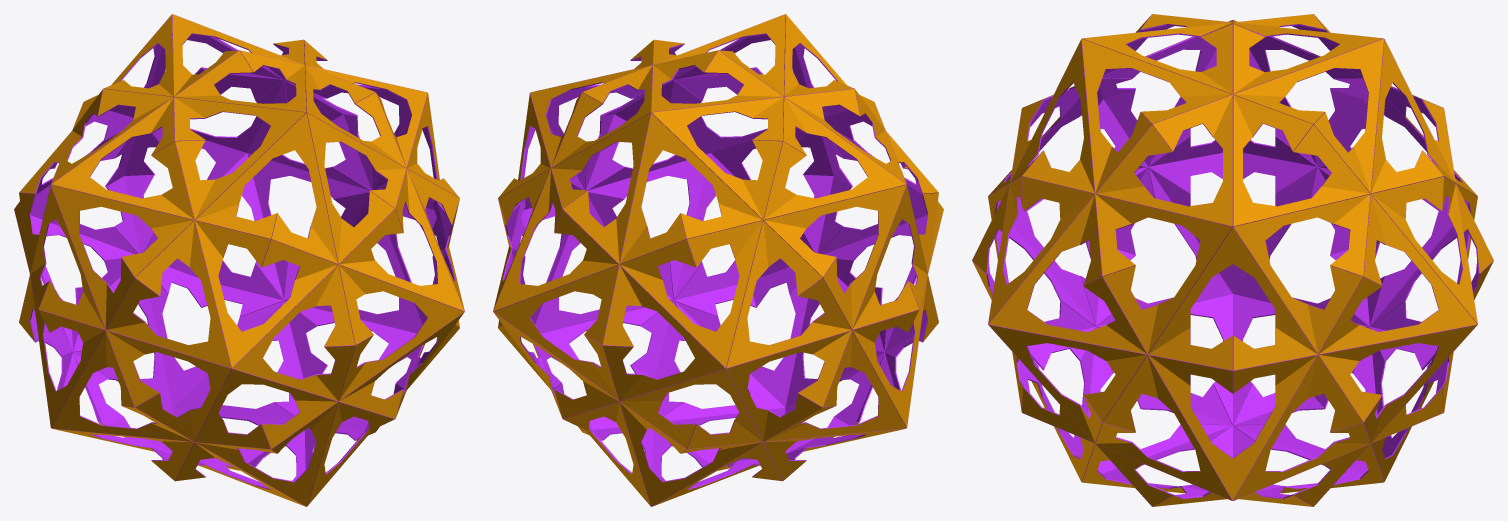
Rendered from MedialDeltoidalHexecontahedronS2.glb.
3 renders of one model, left to right at view 1: azimuth 30°, elevation 25°; view 2: azimuth 150°, elevation 25°; view 3: azimuth 270°, elevation 25°, orthographic. The views are drawn at different scales.
Parts seen in each view (by area): view 1: Mesh_0.003; view 2: Mesh_0.003; view 3: Mesh_0.003.
Boxes of the visible parts, x1,y1,x2,y2 form: Mesh_0.003: [14, 14, 464, 506]; Mesh_0.003: [493, 14, 943, 506]; Mesh_0.003: [972, 14, 1493, 506].
Bounding box in the file's own units: 9.39 × 9.39 × 9.39.
